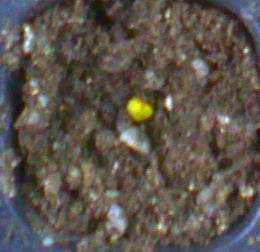pepper seed: (48, 34, 202, 158)
